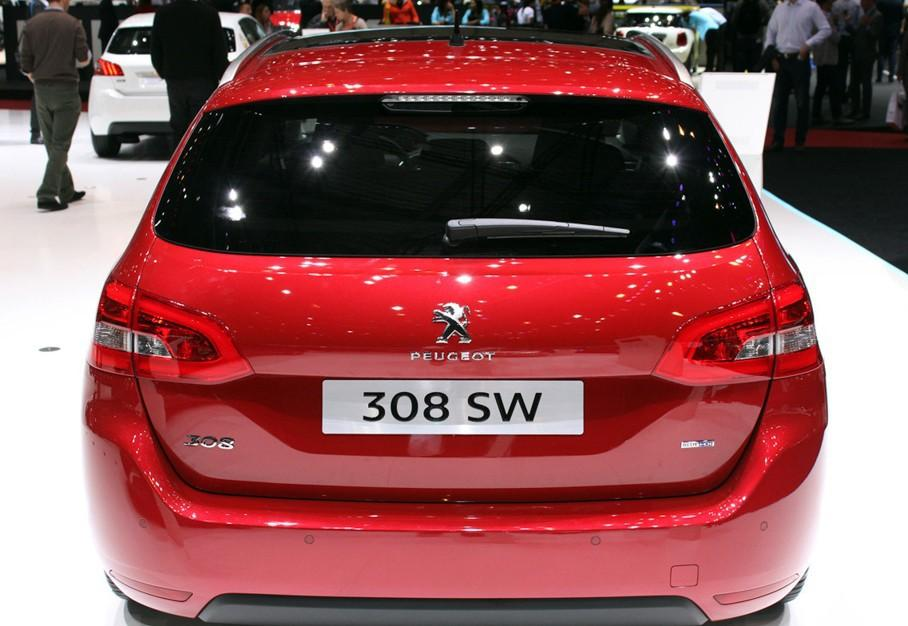Wagon: (80, 25, 829, 626)
